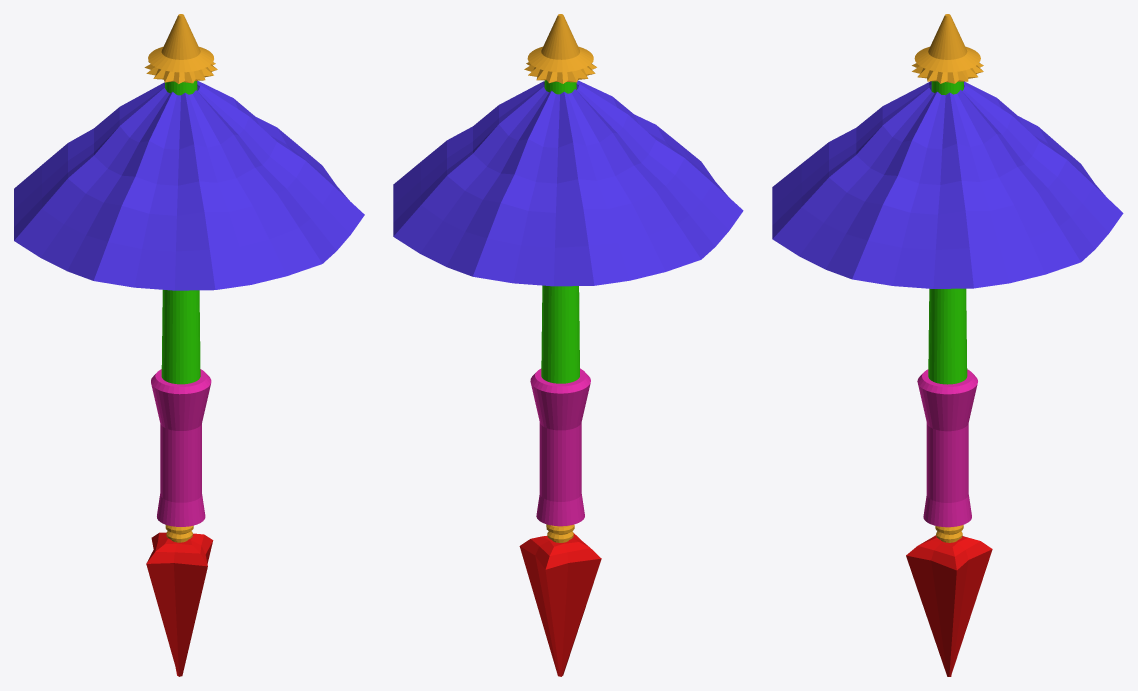
Rendered from Perdorate parasolka.fbx.
3 renders of one model, left to right at view 1: azimuth 30°, elevation 25°; view 2: azimuth 150°, elevation 25°; view 3: azimuth 270°, elevation 25°, orthographic.
Visible parts, largest first — view 1: Cylinder.009; view 2: Cylinder.009; view 3: Cylinder.009.
Part boxes in pixels (bbox=[...]): Cylinder.009: bbox=[14, 14, 364, 676]; Cylinder.009: bbox=[393, 14, 743, 676]; Cylinder.009: bbox=[772, 14, 1123, 676].
Bounding box in the file's own units: 571 × 1168 × 562.
